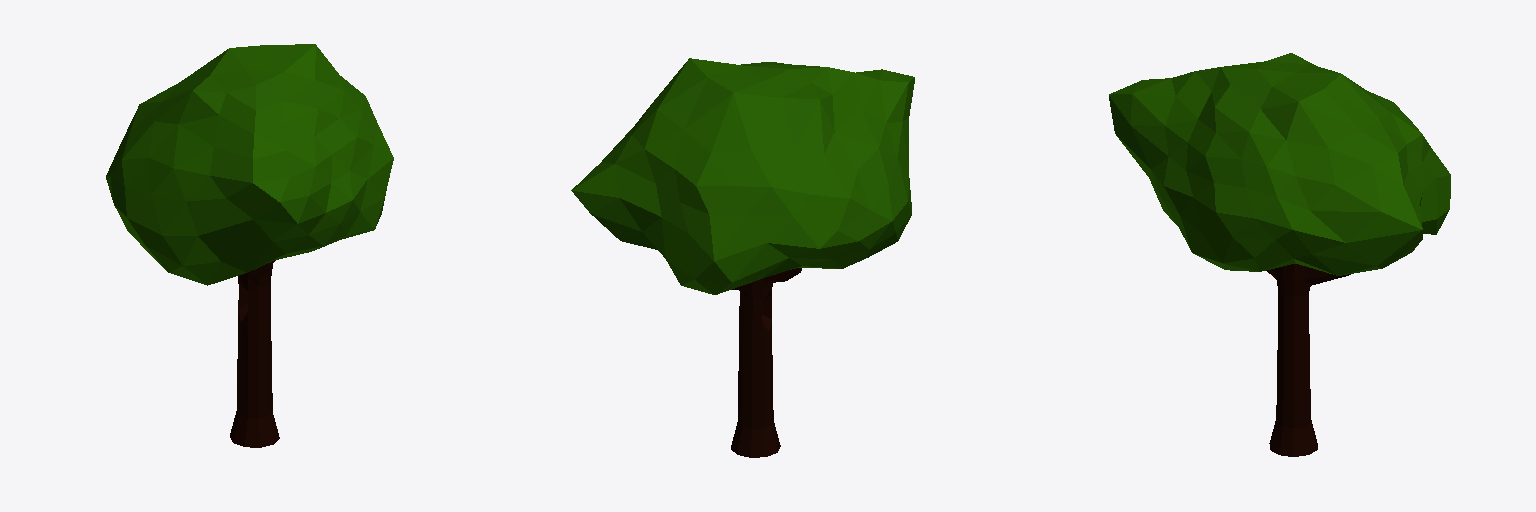
The model's file is tree_2.obj.
3 renders of one model, left to right at view 1: azimuth 30°, elevation 25°; view 2: azimuth 150°, elevation 25°; view 3: azimuth 270°, elevation 25°, orthographic.
Visible parts, largest first — view 1: tree_2; view 2: tree_2; view 3: tree_2.
Boxes of the visible parts, box(x1,y1,x2,y2) form: tree_2: box(106, 44, 393, 447); tree_2: box(571, 58, 914, 457); tree_2: box(1109, 53, 1450, 456).
Bounding box in the file's own units: 6.51 × 9.23 × 7.64.